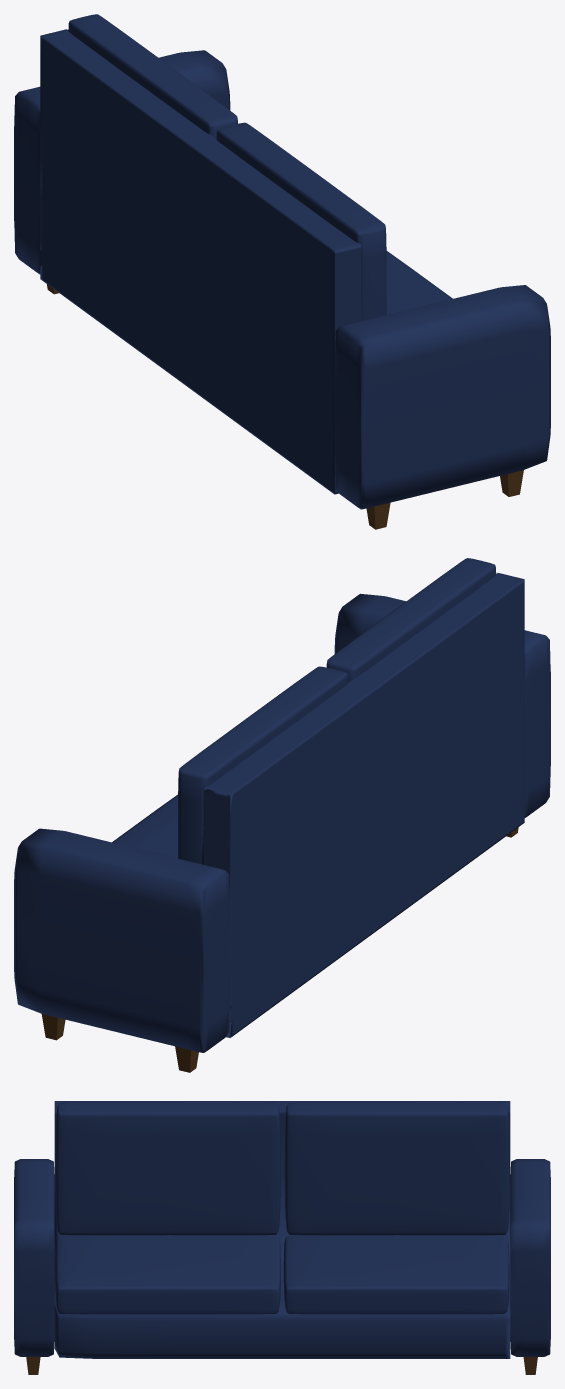
File: SofaSmall.fbx
3 renders of one model, top to bottom at view 1: azimuth 30°, elevation 25°; view 2: azimuth 150°, elevation 25°; view 3: azimuth 270°, elevation 25°, orthographic. The views are drawn at different scales.
Parts seen in each view (by area): view 1: Sofa Small; view 2: Sofa Small; view 3: Sofa Small.
Part boxes in pixels (x1,y1,x2,y2): Sofa Small: (14, 14, 550, 529); Sofa Small: (14, 558, 550, 1072); Sofa Small: (14, 1101, 550, 1374).
Size of the model in its own units: 113 by 158 by 351.
